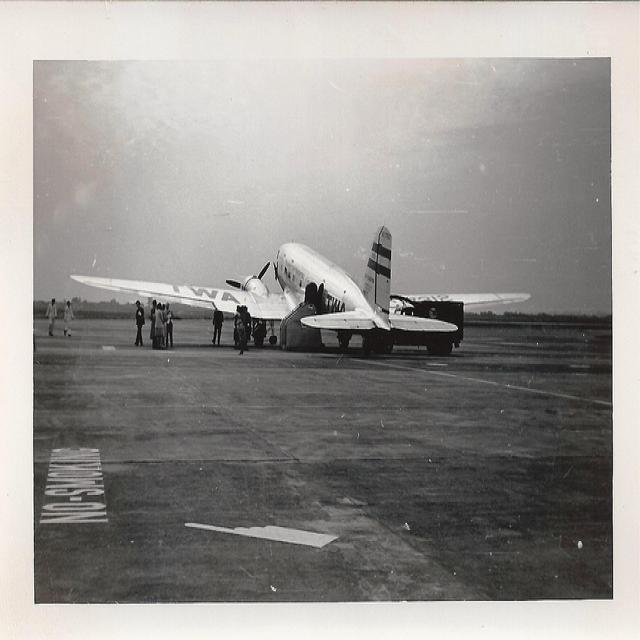airplane: (66, 220, 535, 364)
